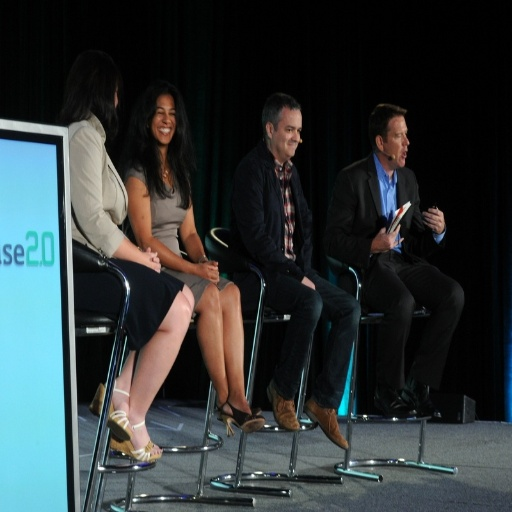hand: (370, 221, 405, 253), (421, 205, 446, 235), (195, 258, 220, 284), (139, 250, 162, 274), (298, 274, 316, 292), (145, 245, 160, 264)
